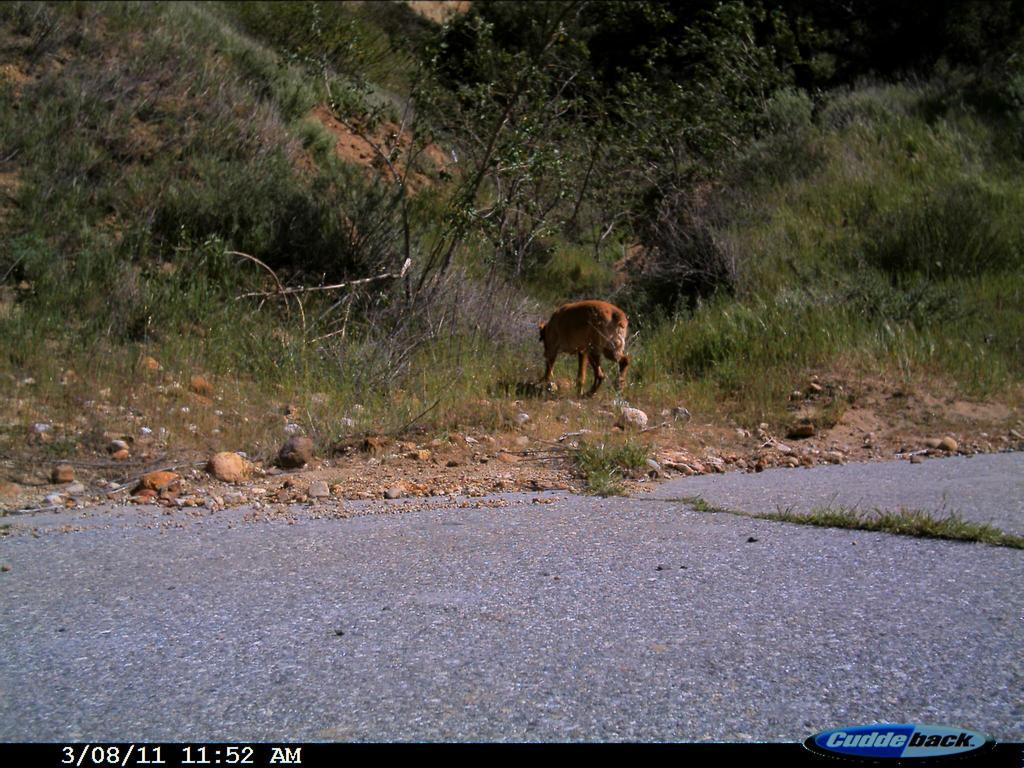dog: (521, 290, 638, 396)
